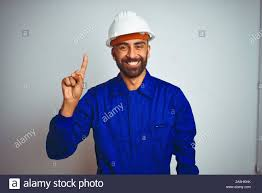Person_wearing_helmet: (98, 5, 160, 57)
